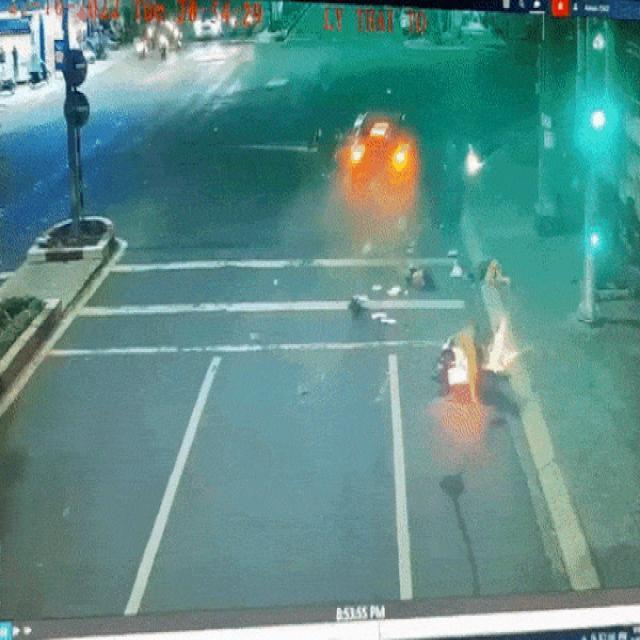multiple_accident: (309, 97, 528, 423)
